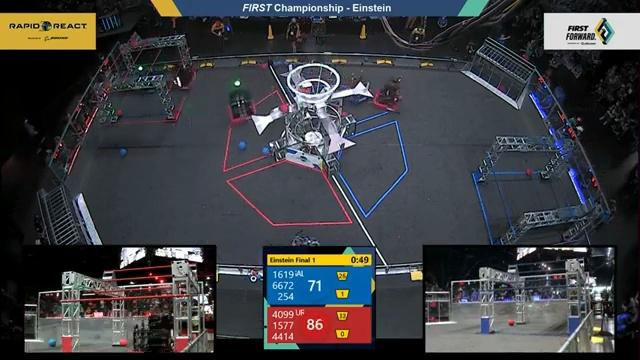robot: (218, 83, 261, 128), (369, 70, 406, 117), (165, 58, 205, 91)
